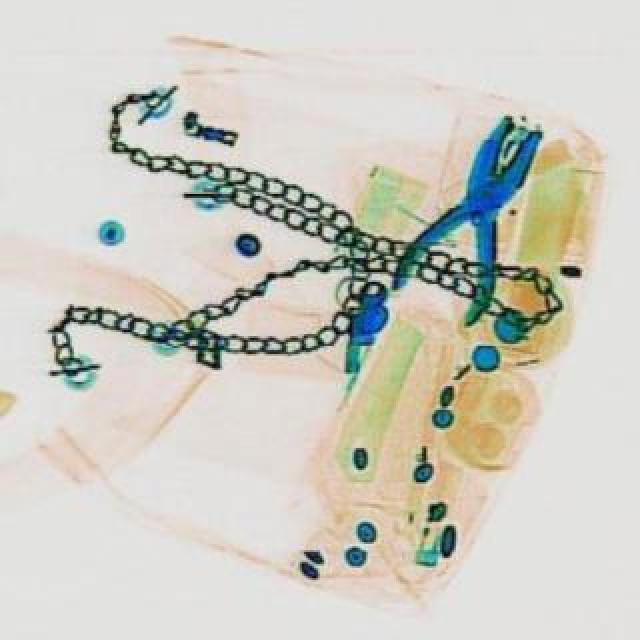wrench: (386, 104, 578, 334)
